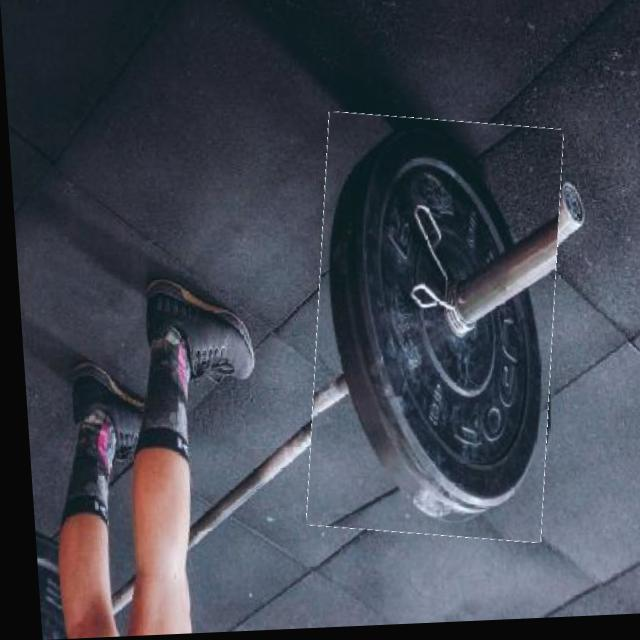barbell: (291, 114, 572, 550)
